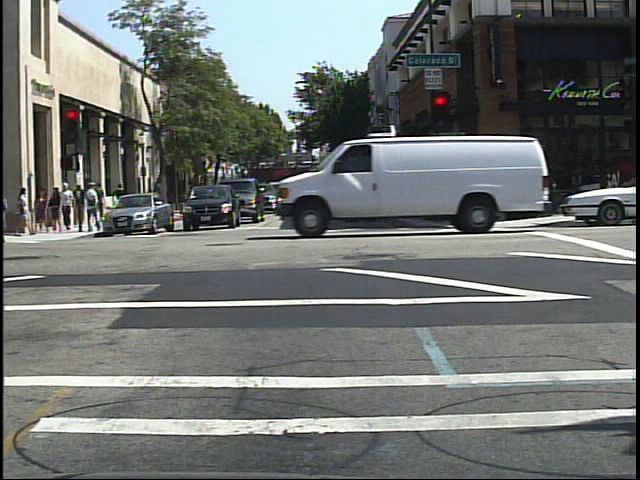person: (81, 180, 102, 234)
